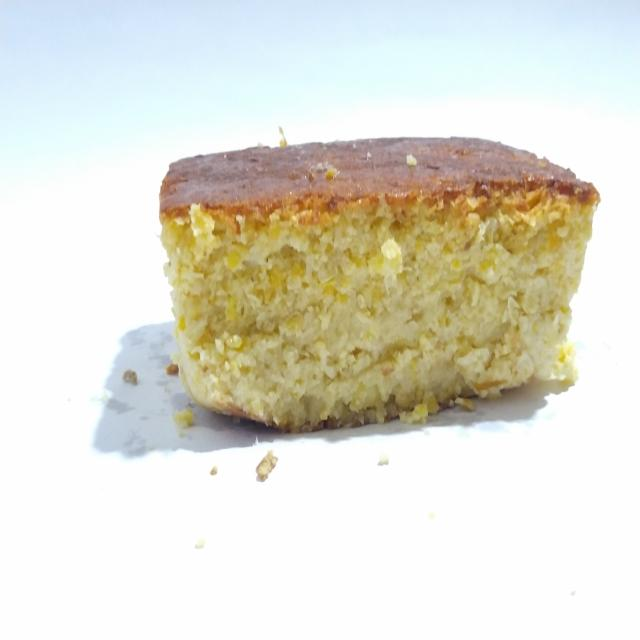Chipa_Guazu: (146, 117, 604, 442)
